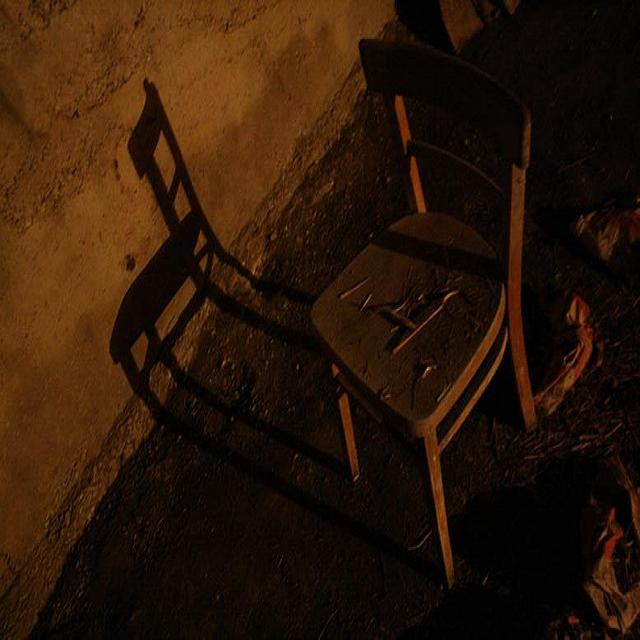chair: (310, 14, 550, 591)
